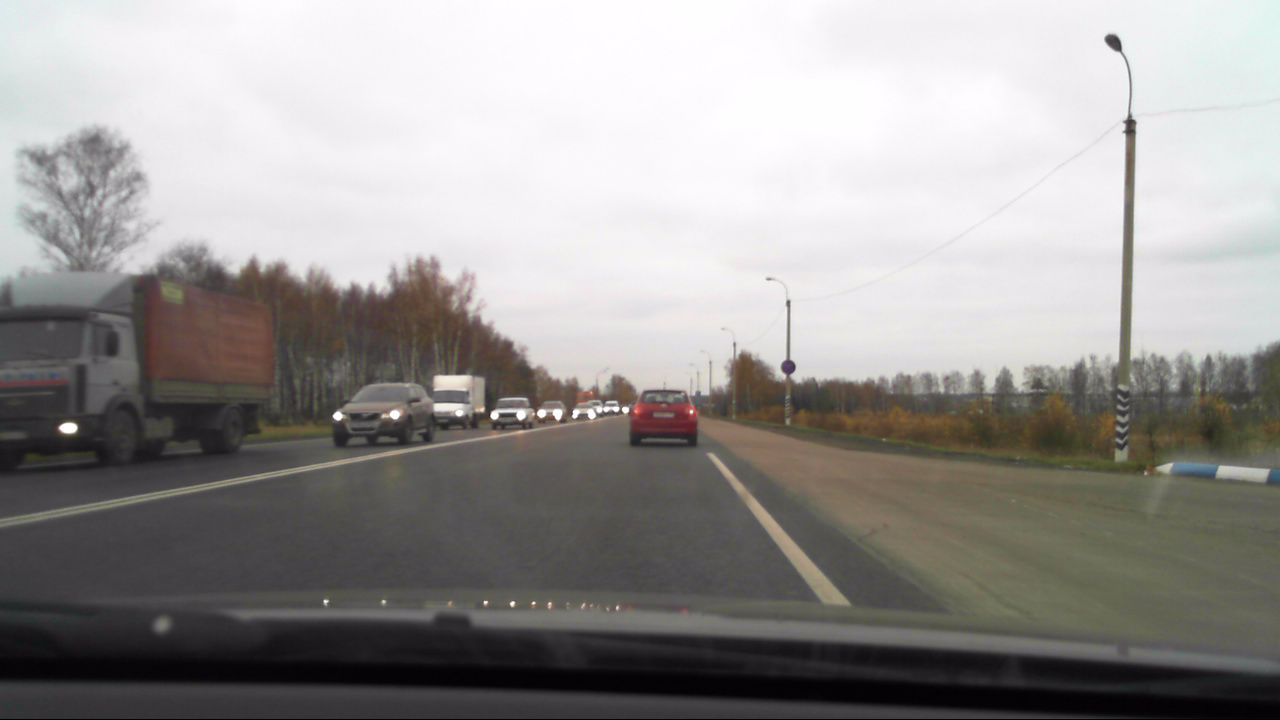No Parking: (778, 357, 797, 375)
